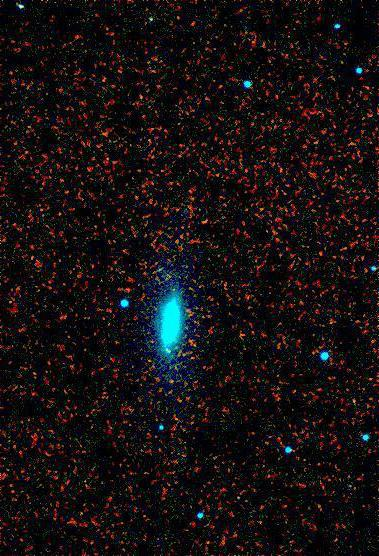star: (156, 331, 186, 361)
